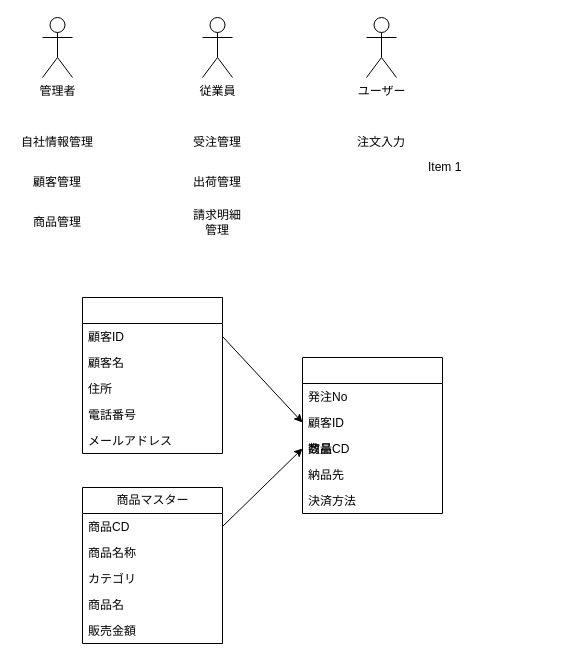
Some shapes in this 579 by 664 pixel diagram are drawn without their labels. The shapes that lost their labels are listed below. From the top down, each one's box as (x1, y1, x2, y2) in pixels, then its label:
(82, 296, 222, 454): 得意先マスター
(302, 356, 442, 514): 注文マスター
